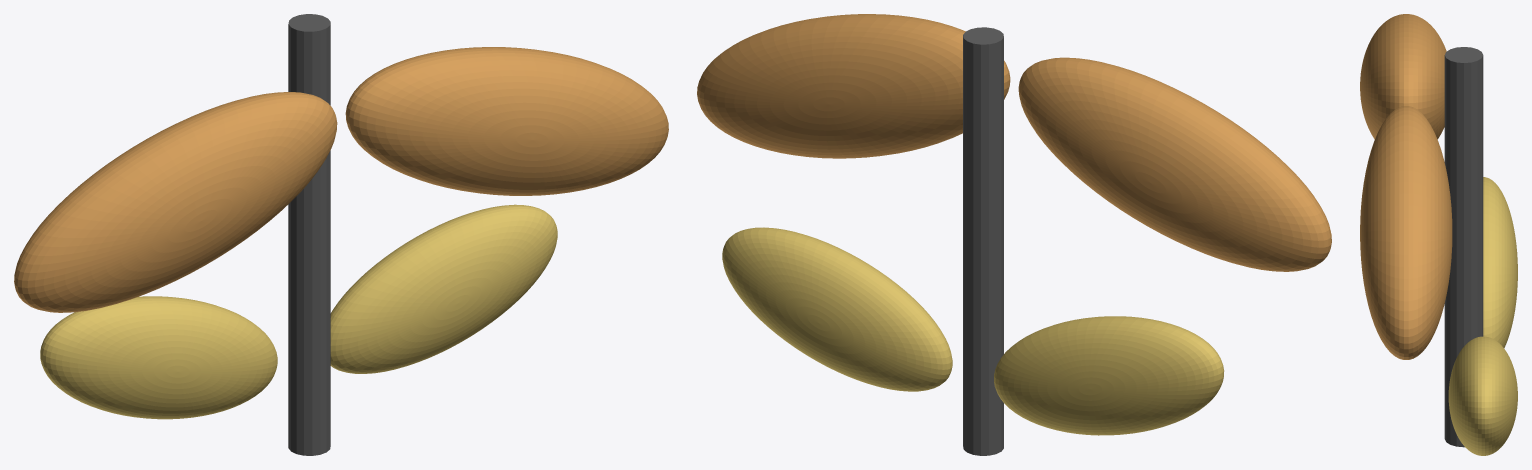
File: mariposa.glb
3 renders of one model, left to right at view 1: azimuth 30°, elevation 25°; view 2: azimuth 150°, elevation 25°; view 3: azimuth 270°, elevation 25°, orthographic. The views are drawn at different scales.
Parts seen in each view (by area): view 1: part1, part2, part4, part3, part0; view 2: part1, part2, part4, part3, part0; view 3: part2, part0, part1, part4, part3.
Part boxes in pixels (left/top/right/bottom): part1: left=14, top=92, right=337, bottom=312; part2: left=345, top=47, right=668, bottom=195; part4: left=330, top=204, right=557, bottom=373; part3: left=40, top=296, right=277, bottom=419; part0: left=288, top=14, right=330, bottom=455; part1: left=1018, top=57, right=1331, bottom=271; part2: left=697, top=14, right=1010, bottom=158; part4: left=722, top=227, right=952, bottom=391; part3: left=994, top=316, right=1224, bottom=435; part0: left=963, top=27, right=1003, bottom=455; part2: left=1360, top=106, right=1452, bottom=359; part0: left=1444, top=47, right=1483, bottom=447; part1: left=1360, top=14, right=1446, bottom=139; part4: left=1448, top=336, right=1517, bottom=455; part3: left=1483, top=177, right=1517, bottom=348.
Bounding box in the file's own units: 1.76 × 1.1 × 0.41.
